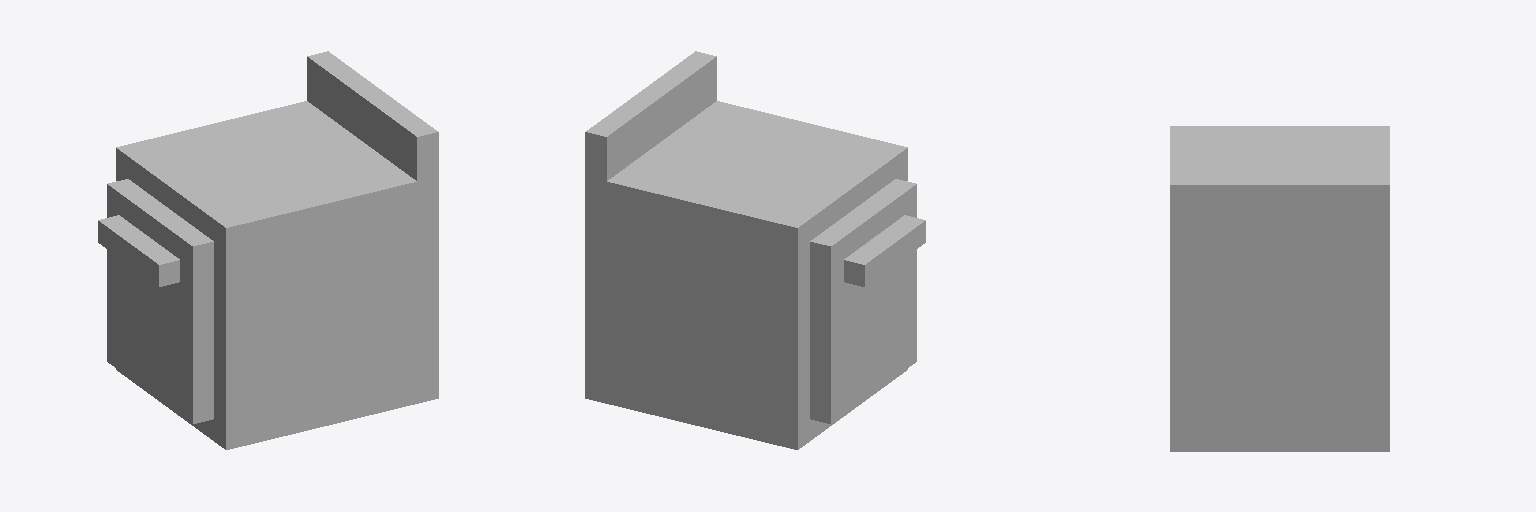
The model's file is oven 2.obj.
3 views of the same model, side by side, from view 1: azimuth 30°, elevation 25°; view 2: azimuth 150°, elevation 25°; view 3: azimuth 270°, elevation 25° (orthographic).
Parts seen in each view (by area): view 1: oven 2; view 2: oven 2; view 3: oven 2.
Boxes of the visible parts, <box> form: oven 2: <box>98,51,438,449</box>; oven 2: <box>585,51,925,449</box>; oven 2: <box>1170,126,1389,451</box>.
Size of the model in its own units: 12 by 12 by 9.